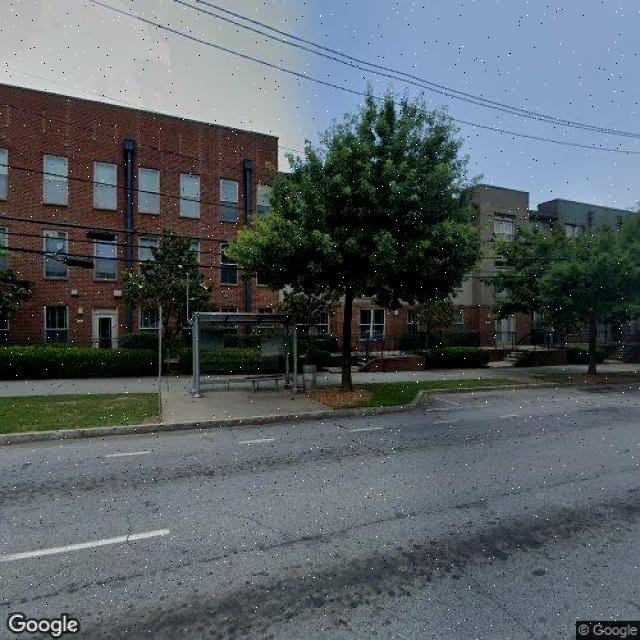seating: (245, 374, 284, 394)
shelter: (188, 312, 302, 398)
trash_can: (301, 364, 317, 391)
